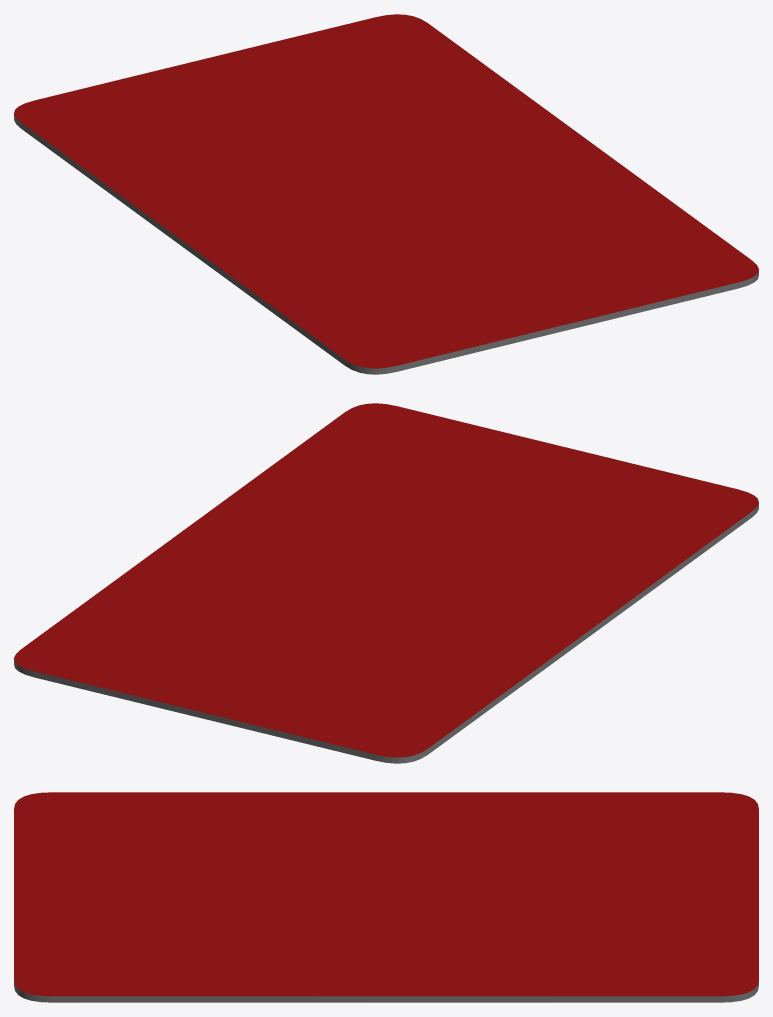
The model's file is SM_AlimentCard.fbx.
3 renders of one model, top to bottom at view 1: azimuth 30°, elevation 25°; view 2: azimuth 150°, elevation 25°; view 3: azimuth 270°, elevation 25°, orthographic. The views are drawn at different scales.
Parts seen in each view (by area): view 1: Plane012; view 2: Plane012; view 3: Plane012.
Part boxes in pixels (x1,y1,x2,y2): Plane012: (14,14,758,374); Plane012: (14,403,758,763); Plane012: (14,792,758,1002).
Bounding box in the file's own units: 59 × 0.8434 × 91.
